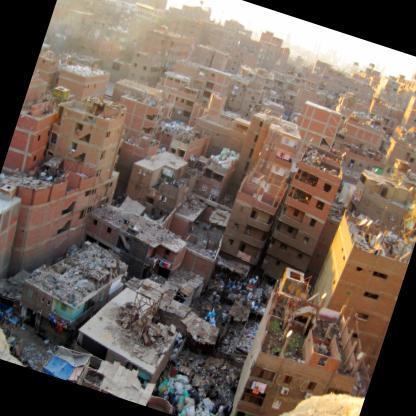Garbage: (160, 371, 237, 415), (38, 265, 89, 304), (74, 249, 117, 284), (243, 276, 274, 316), (200, 302, 224, 330), (216, 148, 238, 172)
